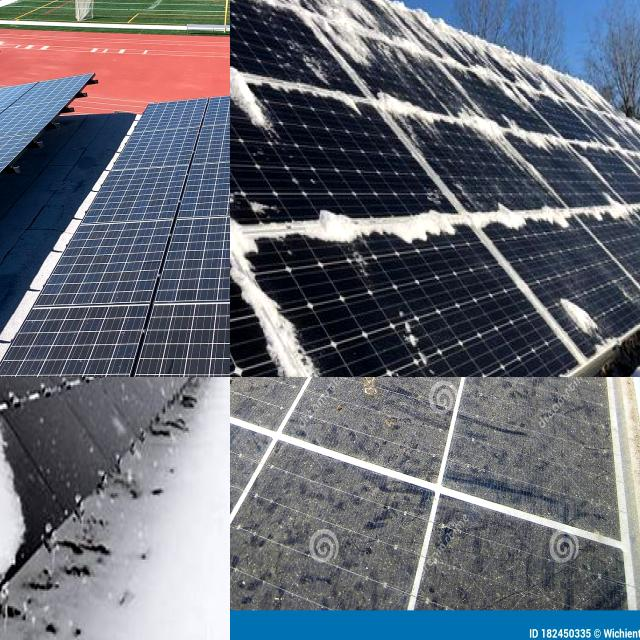bird: (230, 377, 394, 453)
panel: (230, 254, 382, 377), (238, 197, 476, 260), (373, 94, 541, 150), (374, 21, 510, 90), (0, 412, 45, 579), (480, 180, 600, 239), (230, 48, 316, 129), (520, 43, 622, 108), (555, 100, 640, 175), (230, 108, 273, 254), (230, 0, 365, 42), (541, 283, 616, 346), (0, 377, 51, 439), (0, 377, 62, 423), (320, 72, 363, 118), (0, 377, 49, 417), (230, 0, 263, 40), (610, 185, 640, 225), (0, 377, 51, 400), (0, 377, 41, 401)
